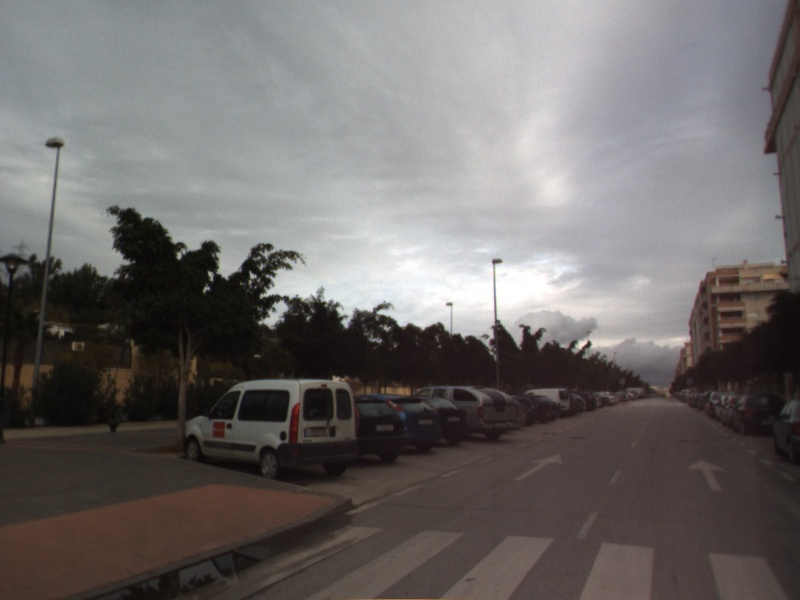STRAIGHT: (512, 451, 565, 482), (686, 456, 728, 494)
